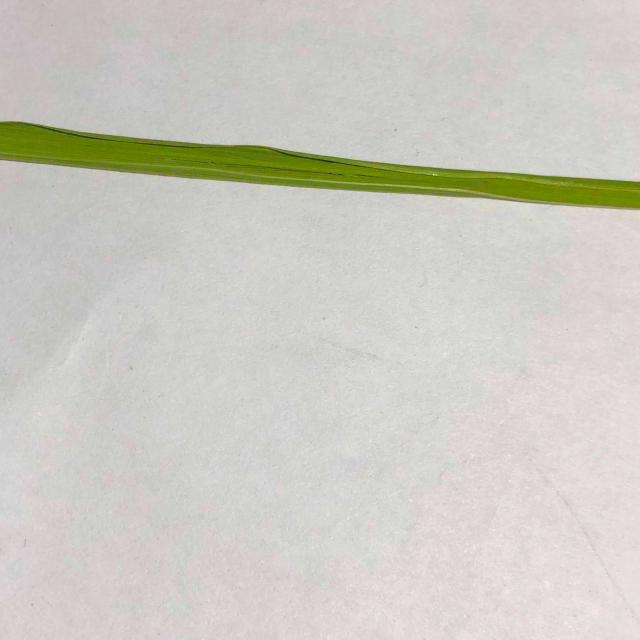Rice_Healthy: (0, 121, 640, 210)
